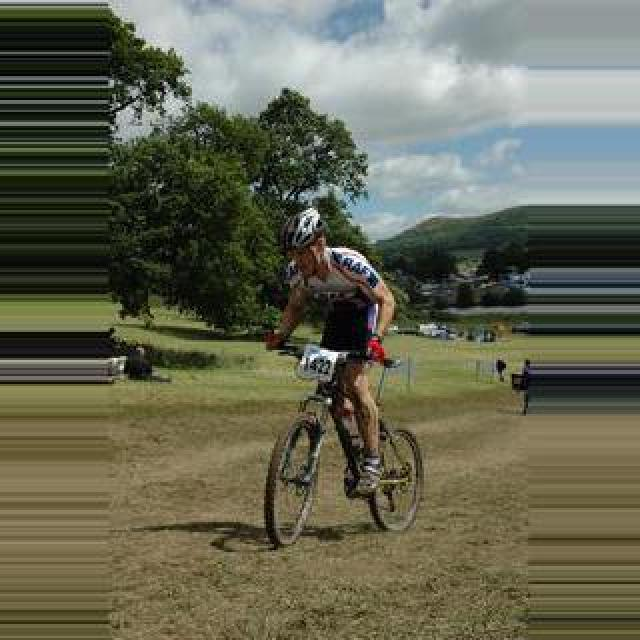MC-Bike: (264, 206, 398, 506)
Person: (262, 338, 424, 548)
